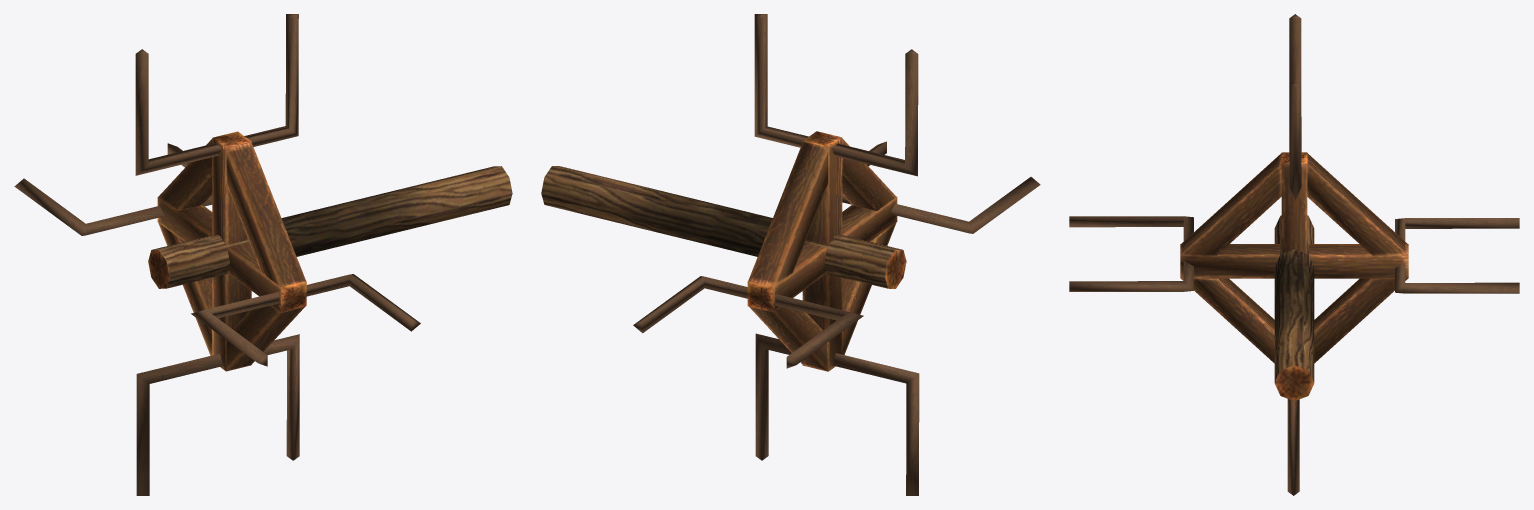
The model's file is INST_SWORDLIGHT_ELEVA.fbx.
The picture shows the model from 3 angles, left to right: view 1: azimuth 30°, elevation 25°; view 2: azimuth 150°, elevation 25°; view 3: azimuth 270°, elevation 25°; orthographic projection. The views are drawn at different scales.
Parts seen in each view (by area): view 1: INST_SWORDLIGHT_ELEVA; view 2: INST_SWORDLIGHT_ELEVA; view 3: INST_SWORDLIGHT_ELEVA.
Boxes of the visible parts, <box> form: INST_SWORDLIGHT_ELEVA: <box>14,14,512,495</box>; INST_SWORDLIGHT_ELEVA: <box>541,14,1040,495</box>; INST_SWORDLIGHT_ELEVA: <box>1069,14,1519,495</box>.
Bounding box in the file's own units: 49017 × 56560 × 56560.
3 materials, 3 textured.
